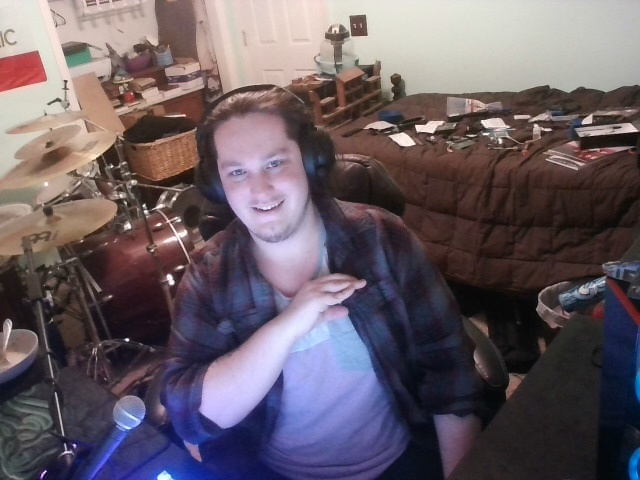police: (283, 269, 383, 344)
